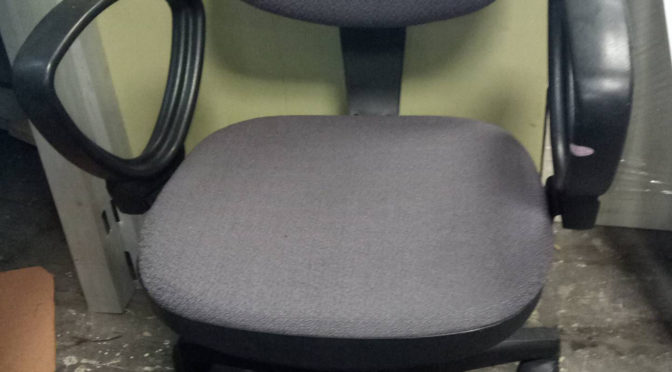chairs: (10, 1, 642, 372)
